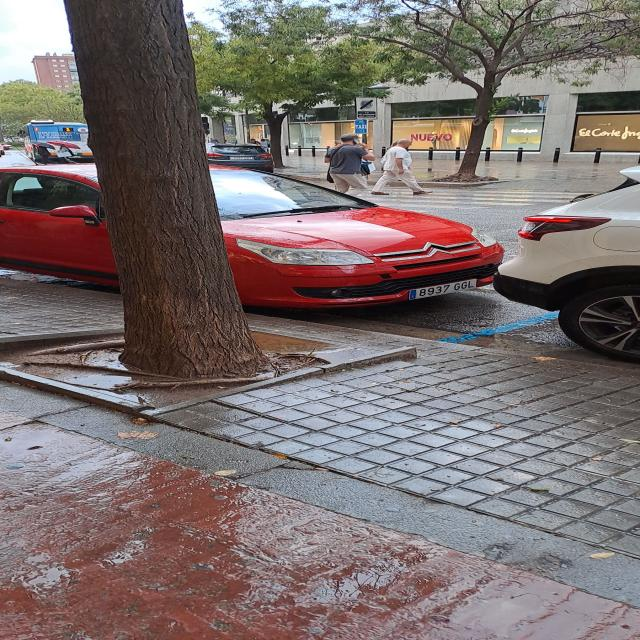license_plate-34Td: (409, 279, 477, 300)
